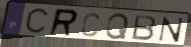B: (131, 14, 158, 42)
C: (23, 6, 52, 36), (80, 12, 102, 38)
N: (157, 16, 185, 44)
Q: (104, 12, 130, 40)
R: (47, 8, 80, 38)
